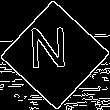N_S: (34, 29, 76, 81)
